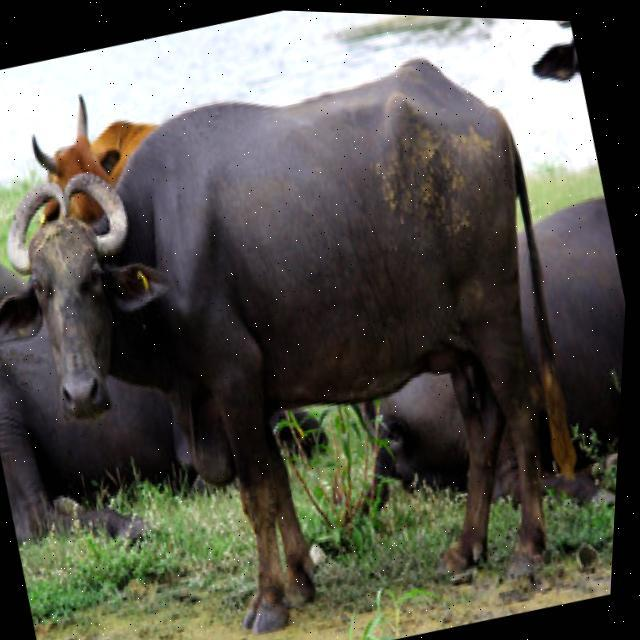Buffalo: (0, 22, 628, 640)
